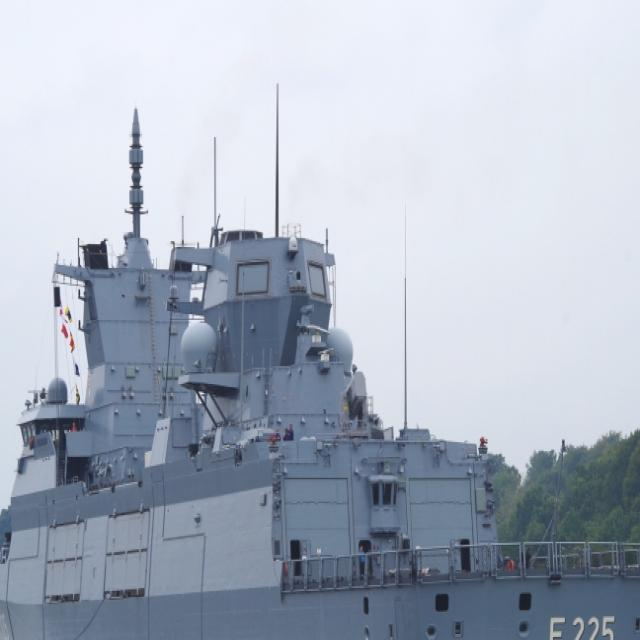Fragata: (1, 72, 640, 640)
